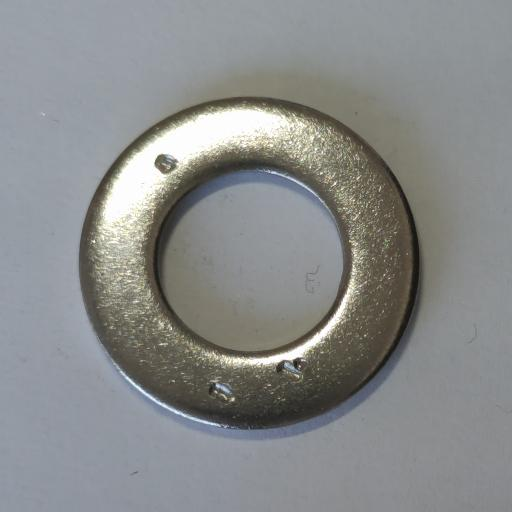circular_cavity: (208, 380, 236, 405), (154, 152, 180, 174), (276, 359, 302, 380), (293, 357, 308, 371)
